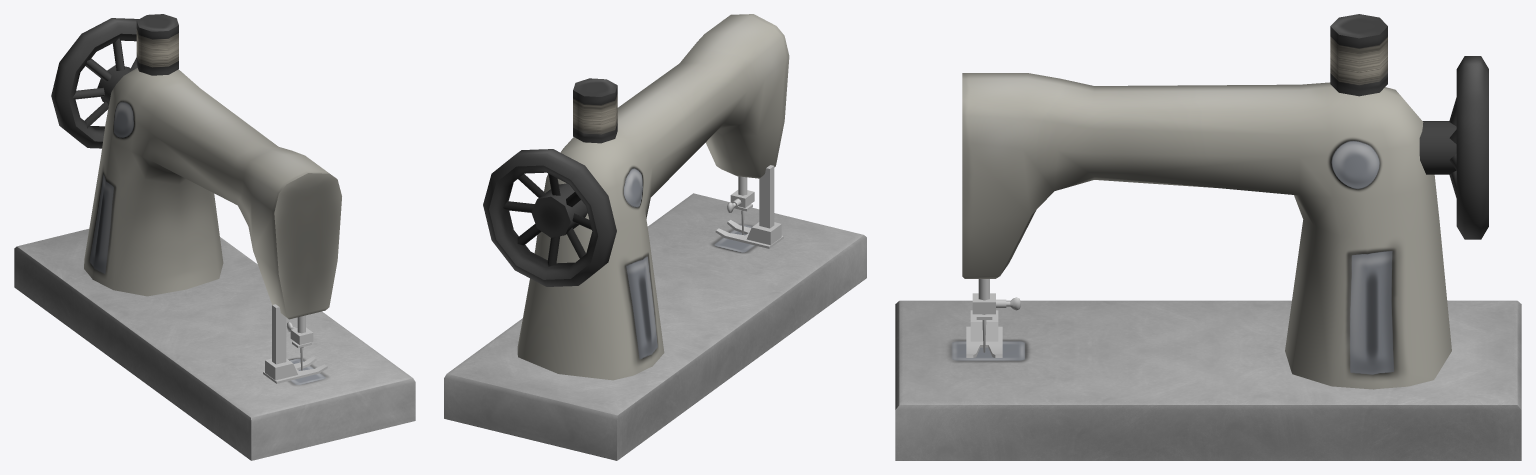
The model's file is BO_Sin1_Sew_01.FBX.
3 views of the same model, side by side, from view 1: azimuth 30°, elevation 25°; view 2: azimuth 150°, elevation 25°; view 3: azimuth 270°, elevation 25° (orthographic). The views are drawn at different scales.
Visible parts, largest first — view 1: BO_Sin1_Sew, BO_Sin1_Sew_support, BO_Sin1_Sew_needle; view 2: BO_Sin1_Sew, BO_Sin1_Sew_support, BO_Sin1_Sew_needle; view 3: BO_Sin1_Sew, BO_Sin1_Sew_support, BO_Sin1_Sew_needle.
Part boxes in pixels (x1,y1,x2,y2): BO_Sin1_Sew: (14,14,415,460); BO_Sin1_Sew_support: (263,304,327,383); BO_Sin1_Sew_needle: (286,315,313,370); BO_Sin1_Sew: (444,14,866,460); BO_Sin1_Sew_support: (715,165,783,248); BO_Sin1_Sew_needle: (727,176,754,234); BO_Sin1_Sew: (895,14,1521,460); BO_Sin1_Sew_support: (966,310,1002,357); BO_Sin1_Sew_needle: (972,279,1020,352).
Size of the model in its own units: 79.77 by 134 by 199.
